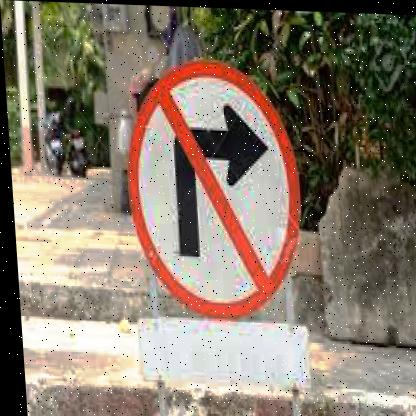No right turn: (116, 47, 301, 319)
